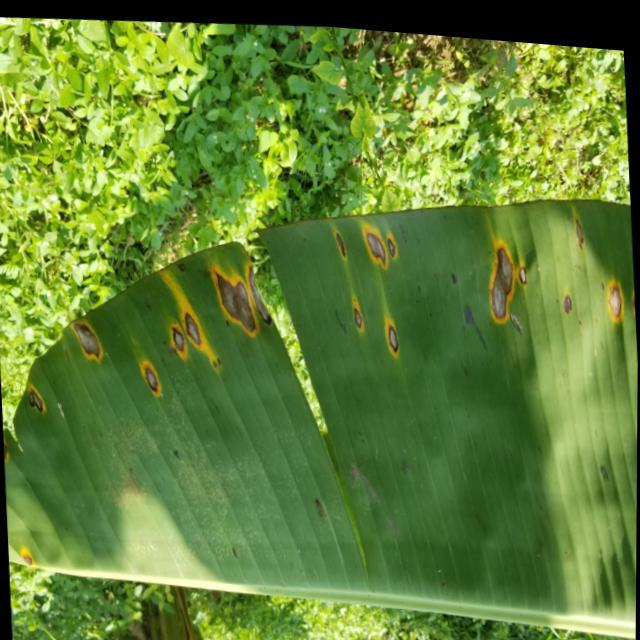Early_rust: (0, 139, 640, 458), (4, 511, 49, 586)
